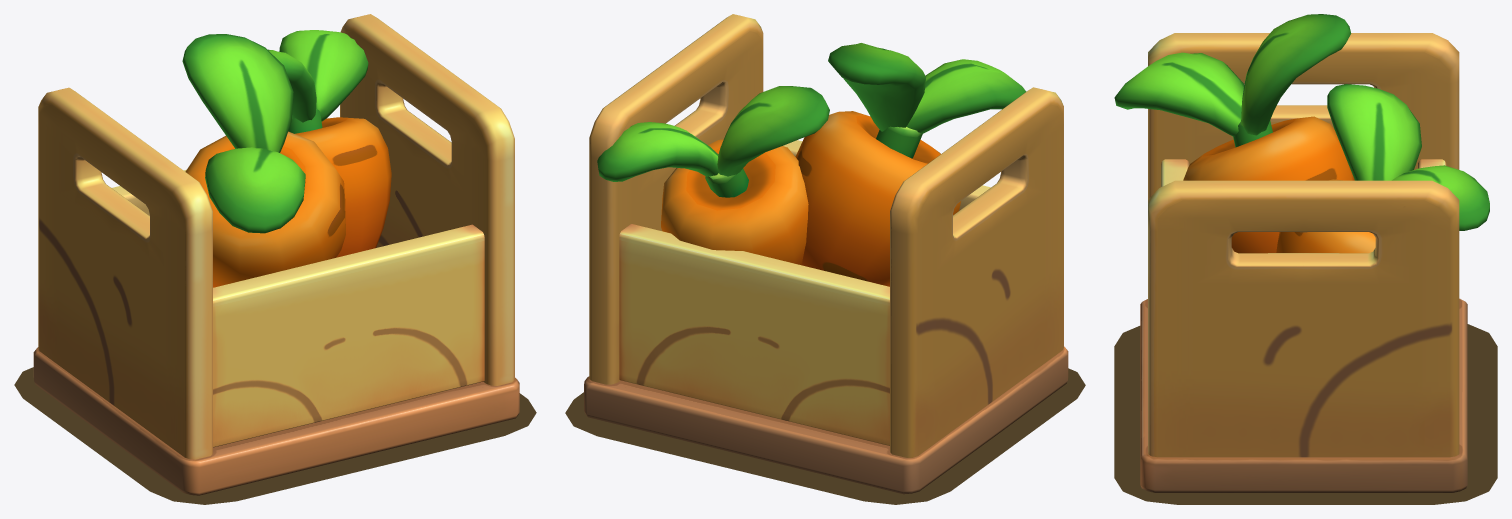
File: Carrot_L03.fbx
3 renders of one model, left to right at view 1: azimuth 30°, elevation 25°; view 2: azimuth 150°, elevation 25°; view 3: azimuth 270°, elevation 25°, orthographic.
Visible parts, largest first — view 1: WT_CarrotL3_body, Carrot_L03_body, WT_CarrotL3_SDW; view 2: WT_CarrotL3_body, Carrot_L03_body, WT_CarrotL3_SDW; view 3: WT_CarrotL3_body, Carrot_L03_body, WT_CarrotL3_SDW.
Part boxes in pixels (<box>): WT_CarrotL3_body: <box>33,14,519,495</box>; Carrot_L03_body: <box>182,30,391,287</box>; WT_CarrotL3_SDW: <box>14,367,536,504</box>; WT_CarrotL3_body: <box>584,14,1068,494</box>; Carrot_L03_body: <box>597,43,1026,286</box>; WT_CarrotL3_SDW: <box>565,368,1085,504</box>; WT_CarrotL3_body: <box>1140,33,1467,492</box>; Carrot_L03_body: <box>1114,14,1489,253</box>; WT_CarrotL3_SDW: <box>1114,324,1497,504</box>.
Size of the model in its own units: 102 by 93.58 by 88.98.
3 materials, 2 textured.
